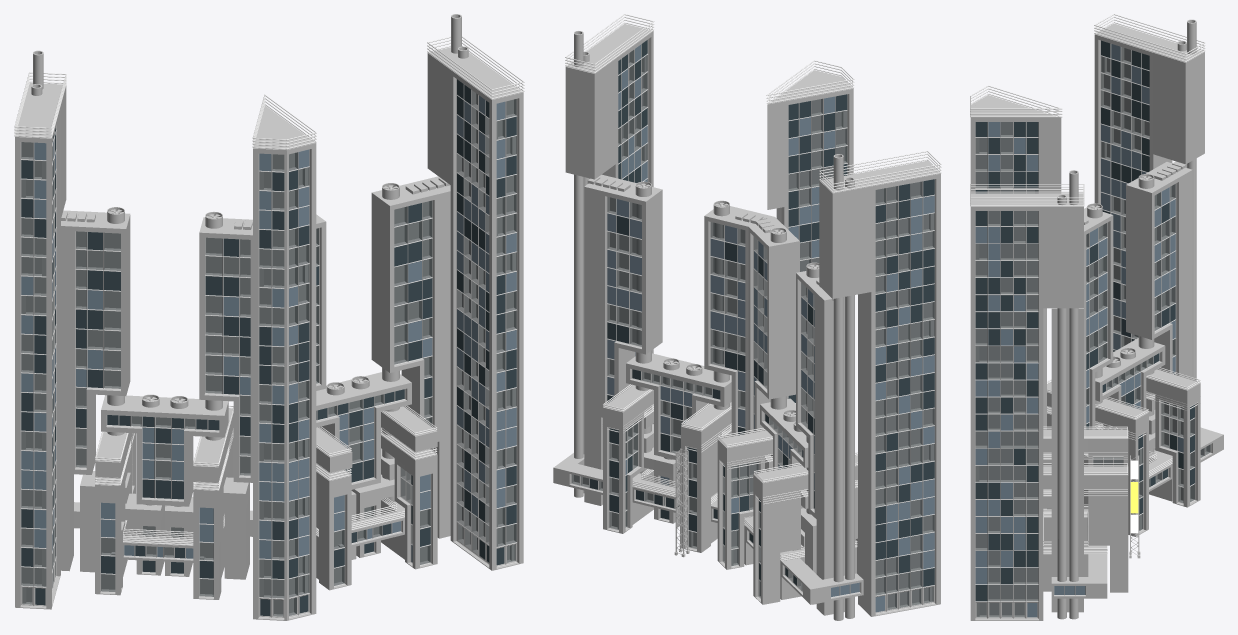
Rendered from building-4.glb.
3 views of the same model, side by side, from view 1: azimuth 30°, elevation 25°; view 2: azimuth 150°, elevation 25°; view 3: azimuth 270°, elevation 25° (orthographic). The views are drawn at different scales.
Parts seen in each view (by area): view 1: Box17_01___Default_0_656, glass01_glass_3_0_675, Object162_glass_88_0_695, frame01_Material__82838964_0_672, glass01_glass_2_0_674, Object163_glass_88_0_697, Object190_light_7698_0_699, Object192_light_7698_0_702, Object190_wal_int_0_700, Object192_wal_int_0_703, Cylinder10_01___Default_0_664, Rectangle18_04___Default_0_719 (+6 smaller); view 2: Box17_01___Default_0_656, glass01_glass_3_0_675, glass01_glass_2_0_674, Object163_glass_88_0_697, frame01_Material__82838964_0_672, Object162_glass_88_0_695, Object192_light_7698_0_702, Object192_wal_int_0_703, Cylinder11_01___Default_0_666, Object190_light_7698_0_699, Object190_wal_int_0_700, Cylinder12_01___Default_0_668 (+10 smaller); view 3: Box17_01___Default_0_656, glass01_glass_3_0_675, glass01_glass_2_0_674, Object163_glass_88_0_697, frame01_Material__82838964_0_672, Object162_glass_88_0_695, Object192_light_7698_0_702, Object190_light_7698_0_699, Cylinder11_01___Default_0_666, Object192_wal_int_0_703, Object190_wal_int_0_700, Cylinder12_01___Default_0_668 (+9 smaller).
Boxes of the visible parts, <box> form: Box17_01___Default_0_656: <box>15,47,523,620</box>; glass01_glass_3_0_675: <box>21,79,516,615</box>; Object162_glass_88_0_695: <box>21,107,516,616</box>; frame01_Material__82838964_0_672: <box>20,79,517,618</box>; glass01_glass_2_0_674: <box>21,95,516,562</box>; Object163_glass_88_0_697: <box>21,90,516,597</box>; Object190_light_7698_0_699: <box>22,110,513,614</box>; Object192_light_7698_0_702: <box>22,93,513,595</box>; Object190_wal_int_0_700: <box>21,107,516,616</box>; Object192_wal_int_0_703: <box>21,90,516,603</box>; Cylinder10_01___Default_0_664: <box>107,183,399,502</box>; Rectangle18_04___Default_0_719: <box>14,36,524,140</box>; Box17_01___Default_0_656: <box>553,24,940,616</box>; glass01_glass_3_0_675: <box>589,40,934,586</box>; glass01_glass_2_0_674: <box>607,45,934,612</box>; Object163_glass_88_0_697: <box>581,50,934,609</box>; frame01_Material__82838964_0_672: <box>571,39,934,613</box>; Object162_glass_88_0_695: <box>572,55,934,605</box>; Object192_light_7698_0_702: <box>583,53,932,607</box>; Object192_wal_int_0_703: <box>580,50,934,609</box>; Cylinder11_01___Default_0_666: <box>574,31,843,620</box>; Object190_light_7698_0_699: <box>574,68,932,603</box>; Object190_wal_int_0_700: <box>571,55,934,605</box>; Cylinder12_01___Default_0_668: <box>583,51,854,618</box>; Box17_01___Default_0_656: <box>970,23,1223,620</box>; glass01_glass_3_0_675: <box>975,40,1194,601</box>; glass01_glass_2_0_674: <box>975,44,1183,617</box>; Object163_glass_88_0_697: <box>976,47,1204,616</box>; frame01_Material__82838964_0_672: <box>975,40,1211,618</box>; Object162_glass_88_0_695: <box>976,56,1210,616</box>; Object192_light_7698_0_702: <box>975,48,1190,615</box>; Object190_light_7698_0_699: <box>975,58,1206,615</box>; Cylinder11_01___Default_0_666: <box>1069,19,1196,619</box>; Object192_wal_int_0_703: <box>975,47,1204,617</box>; Object190_wal_int_0_700: <box>975,56,1210,617</box>; Cylinder12_01___Default_0_668: <box>1057,40,1186,619</box>.
Size of the model in its own units: 10 by 11.34 by 5.83.
